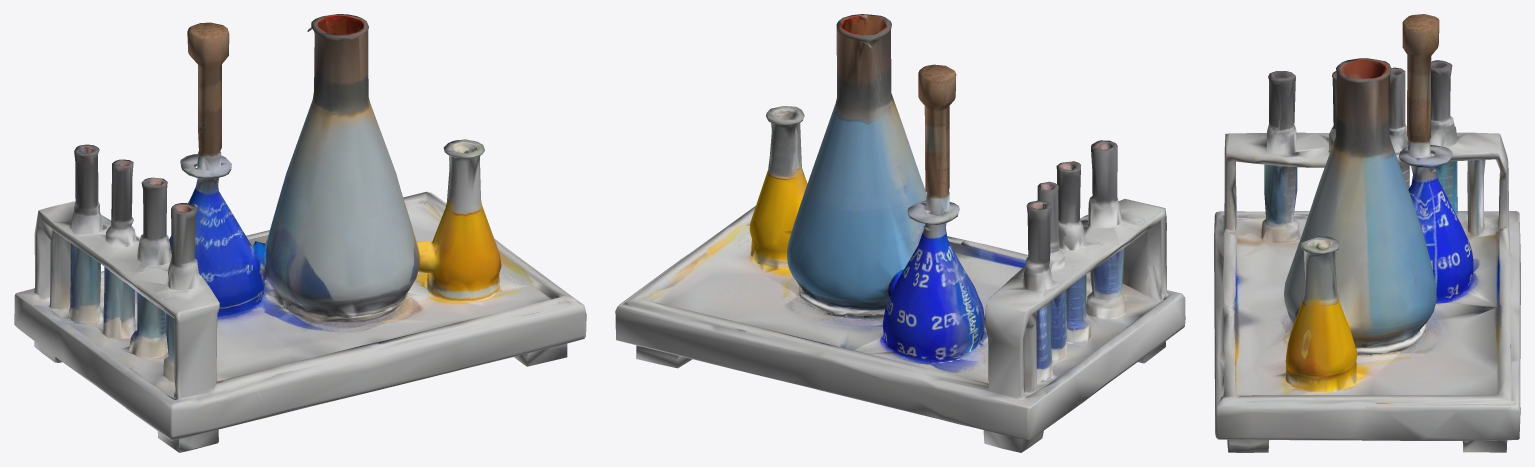
3 renders of one model, left to right at view 1: azimuth 30°, elevation 25°; view 2: azimuth 150°, elevation 25°; view 3: azimuth 270°, elevation 25°, orthographic. The views are drawn at different scales.
Bounding box in the file's own units: 2 × 1.47 × 1.31.
Materials: 1 (1 with a texture image).
